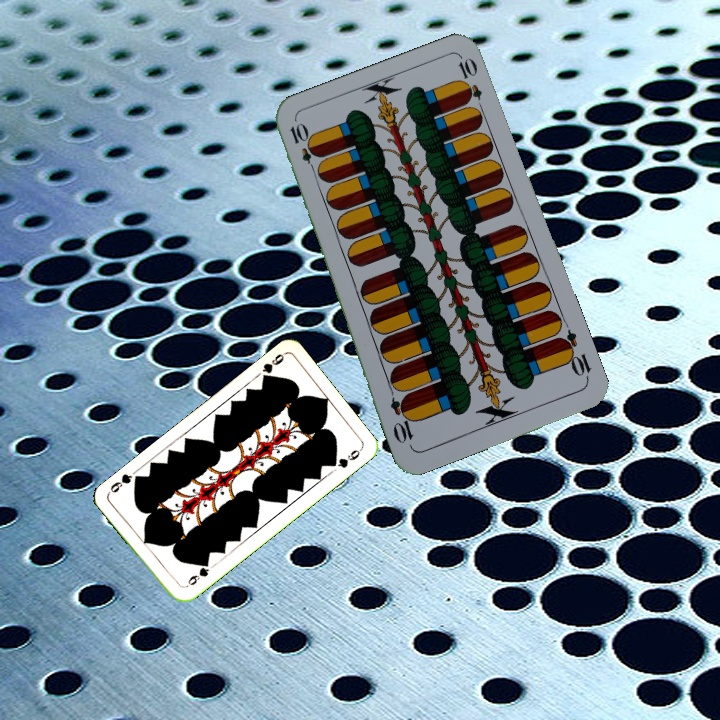E10: (554, 326, 594, 383), (285, 119, 321, 177)
G9: (258, 349, 288, 384), (180, 558, 212, 590)
